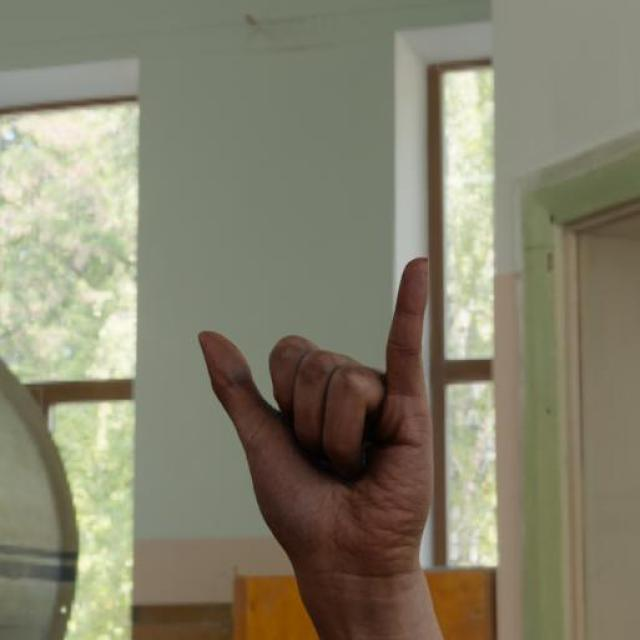Y: (168, 225, 478, 640)
